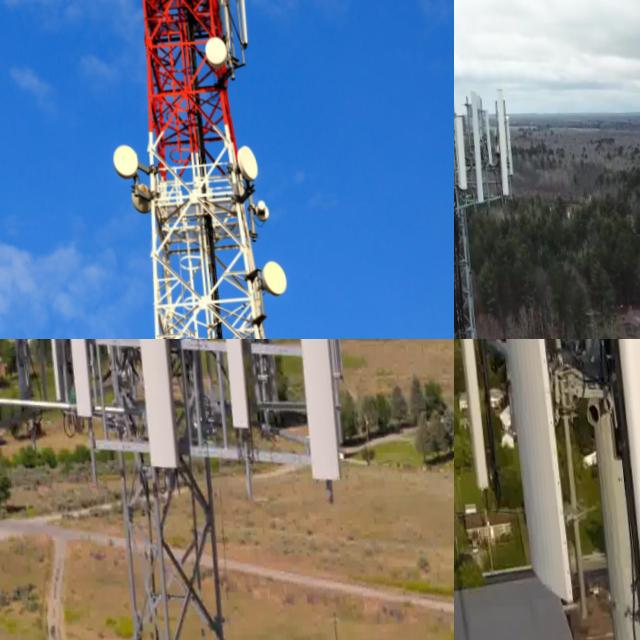GSM Antenna: (462, 339, 577, 607), (573, 339, 640, 640), (113, 339, 185, 494), (275, 339, 345, 495), (454, 339, 490, 489), (50, 339, 98, 438), (201, 339, 249, 437), (219, 339, 279, 405), (16, 339, 68, 411), (481, 89, 509, 197), (458, 95, 482, 207), (0, 339, 34, 400), (221, 0, 249, 58), (454, 113, 464, 197)
Microwave Antenna: (243, 257, 289, 315), (191, 30, 228, 87), (96, 140, 135, 184), (223, 144, 255, 191), (117, 182, 151, 221), (238, 202, 263, 229)
